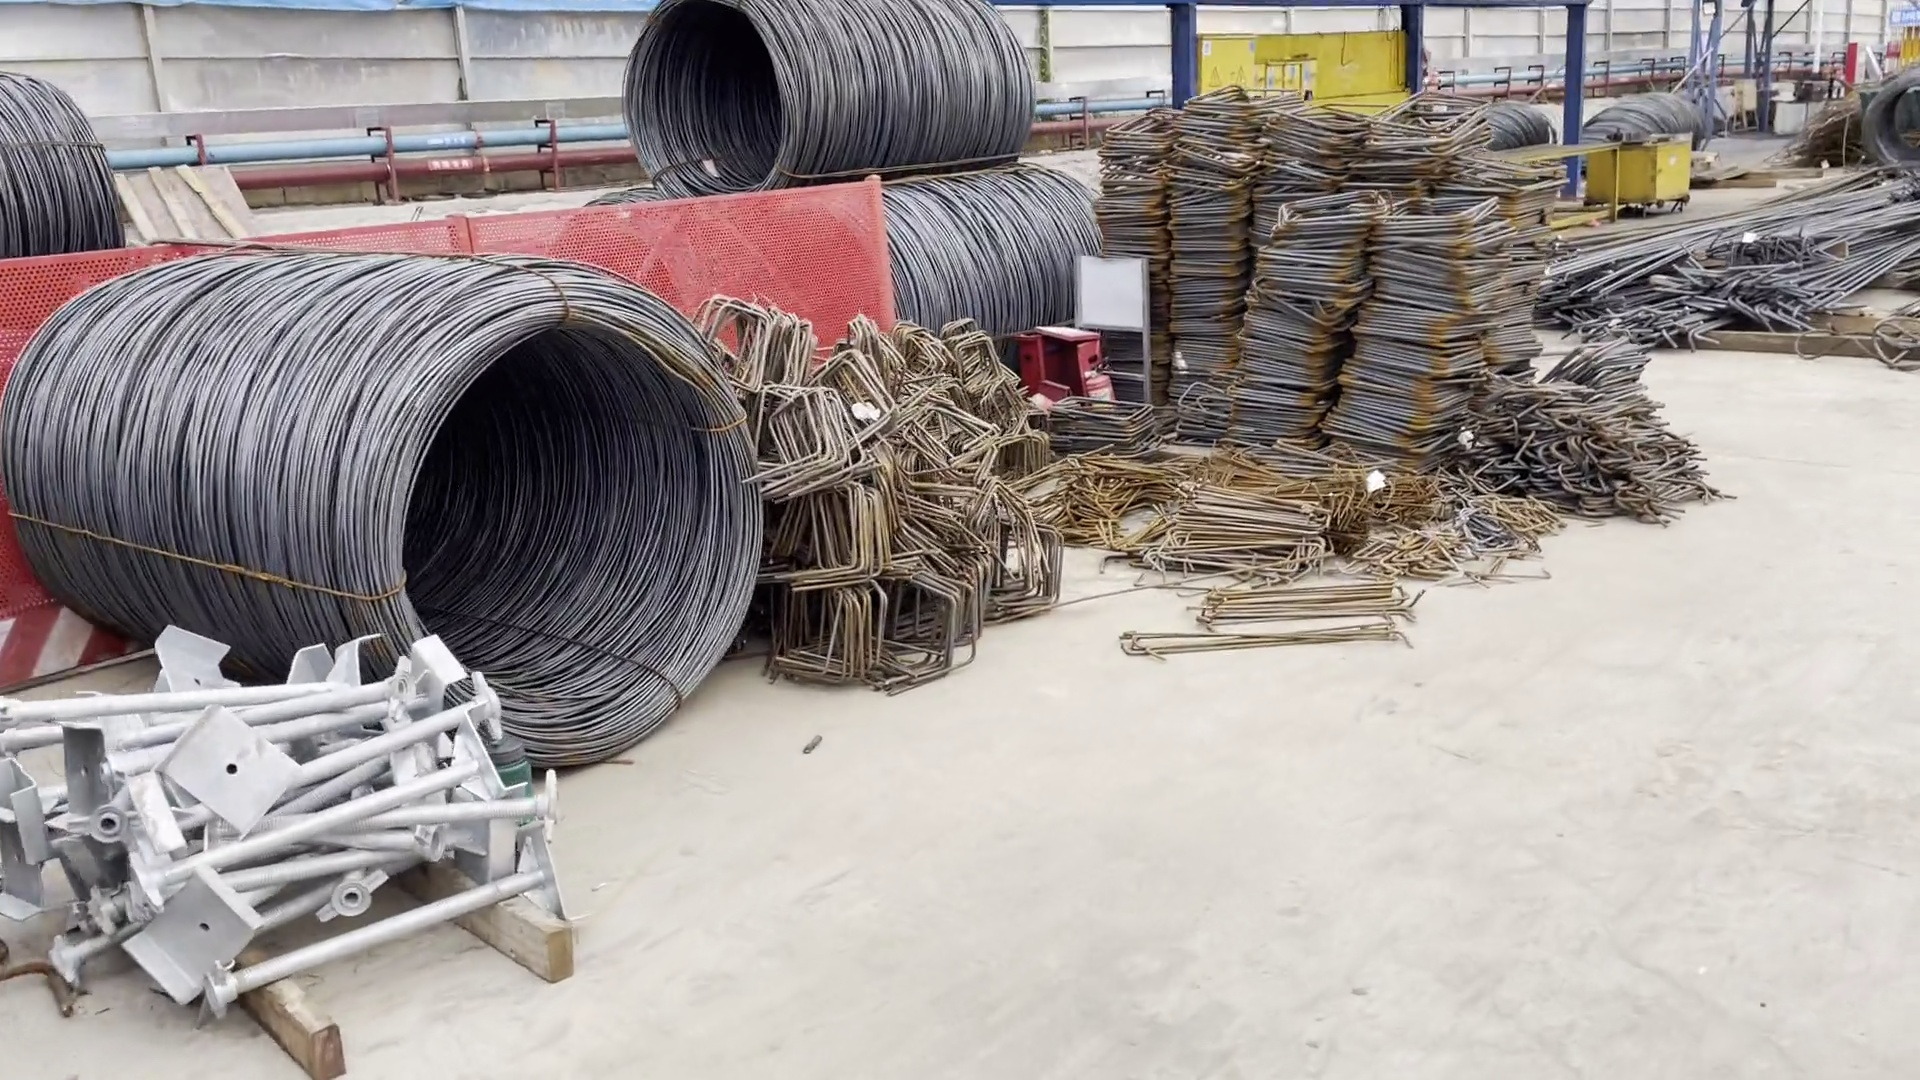ebox: (1191, 26, 1255, 111)
rebar: (1547, 170, 1920, 363)
